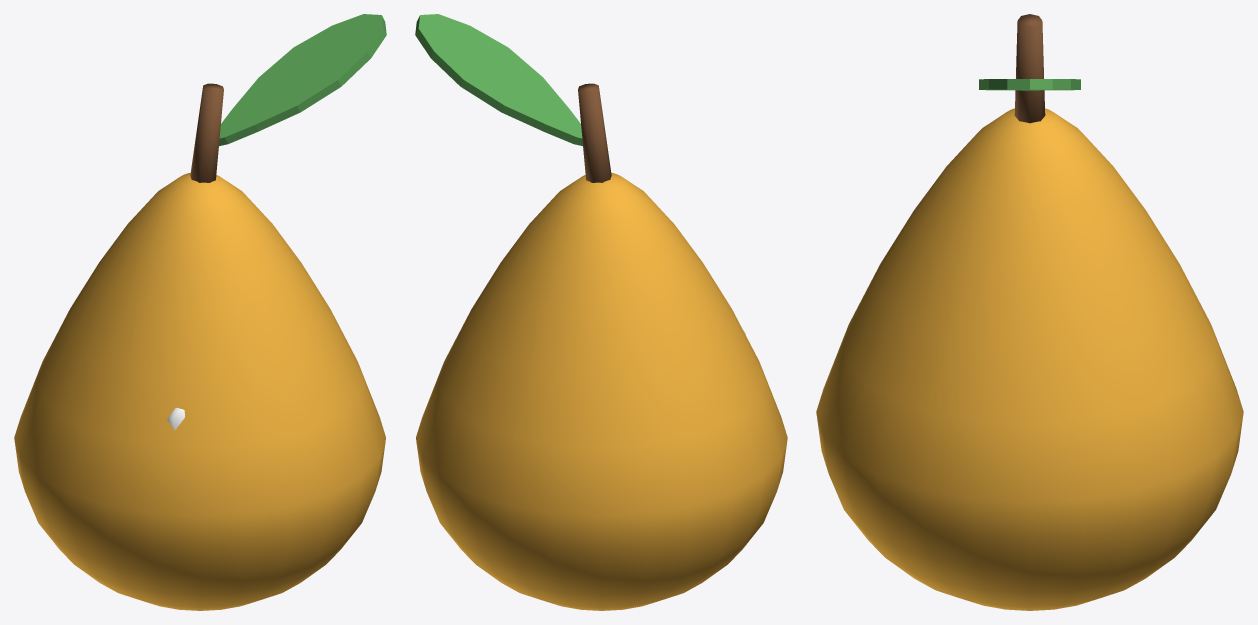
File: fruit-mango.glb
The picture shows the model from 3 angles, left to right: view 1: azimuth 30°, elevation 25°; view 2: azimuth 150°, elevation 25°; view 3: azimuth 270°, elevation 25°; orthographic projection. The views are drawn at different scales.
Visible parts, largest first — view 1: fruit; view 2: fruit; view 3: fruit.
Part boxes in pixels (left/top/right/bottom): fruit: left=14, top=14, right=386, bottom=610; fruit: left=415, top=14, right=787, bottom=610; fruit: left=816, top=14, right=1243, bottom=610.
Size of the model in its own units: 0.2579 by 0.3794 by 0.24.
